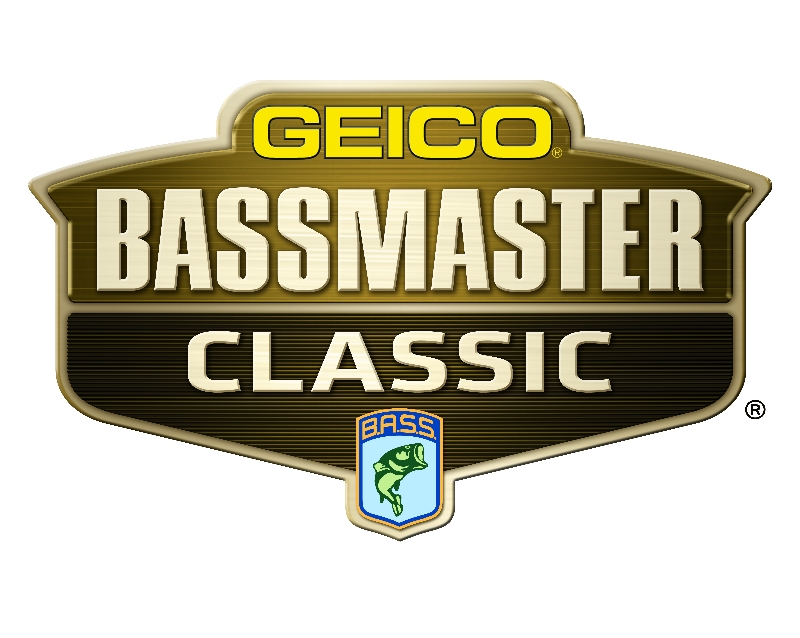Geico: (242, 90, 566, 165)
